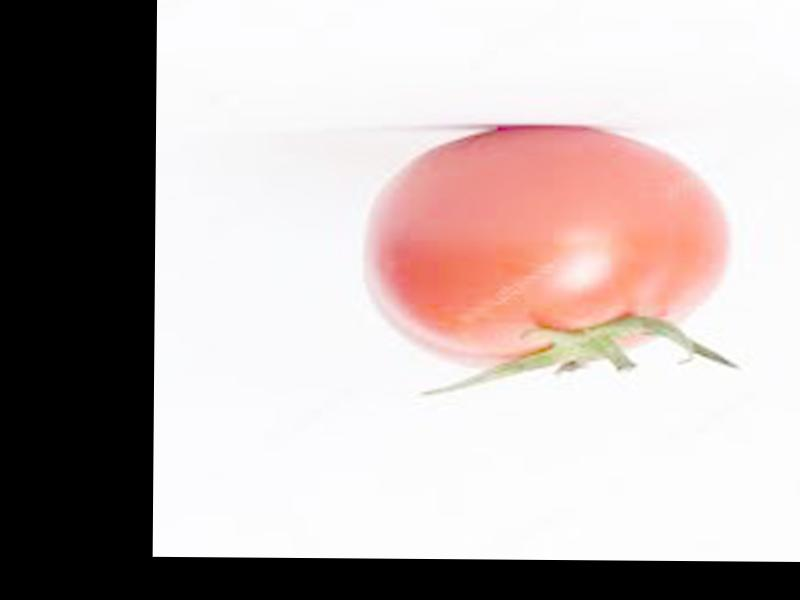Tomato: (358, 122, 729, 367)
